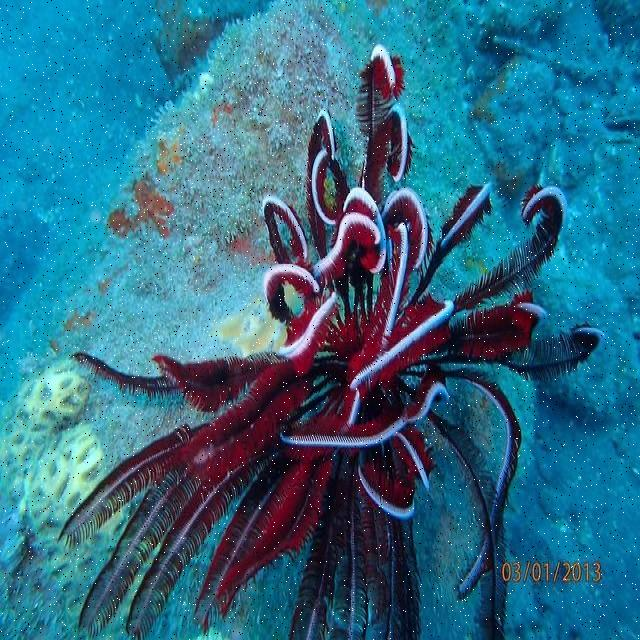reefs: (72, 46, 609, 639)
